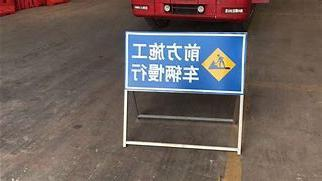sign: (122, 33, 246, 94)
